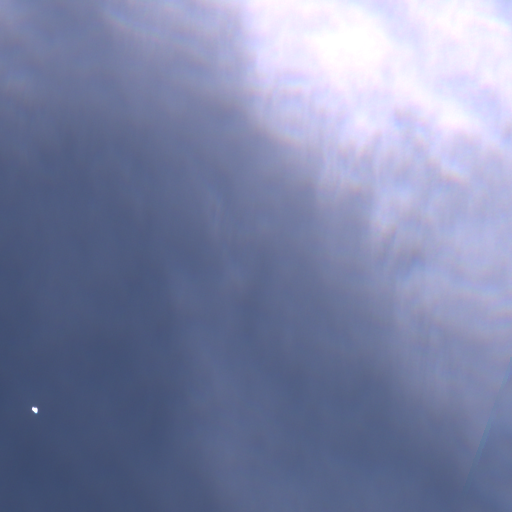Iceberg: (32, 406, 37, 413)
